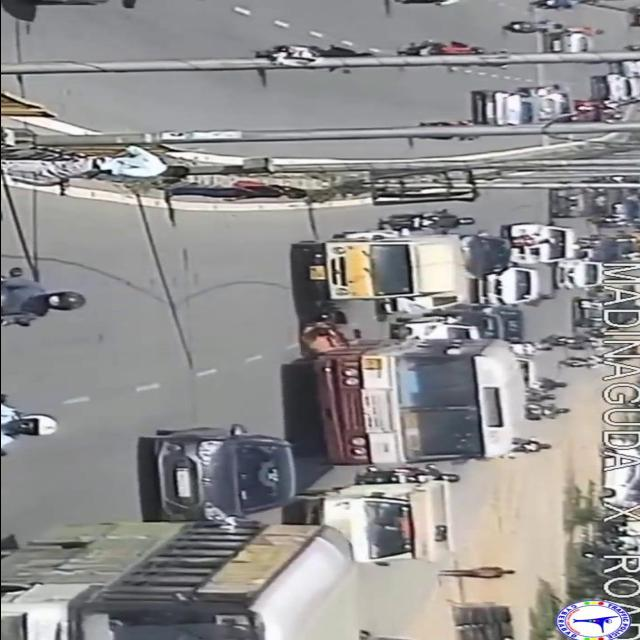accident: (283, 231, 533, 473)
non_accident: (0, 422, 464, 640), (476, 184, 640, 308), (464, 61, 640, 127)
